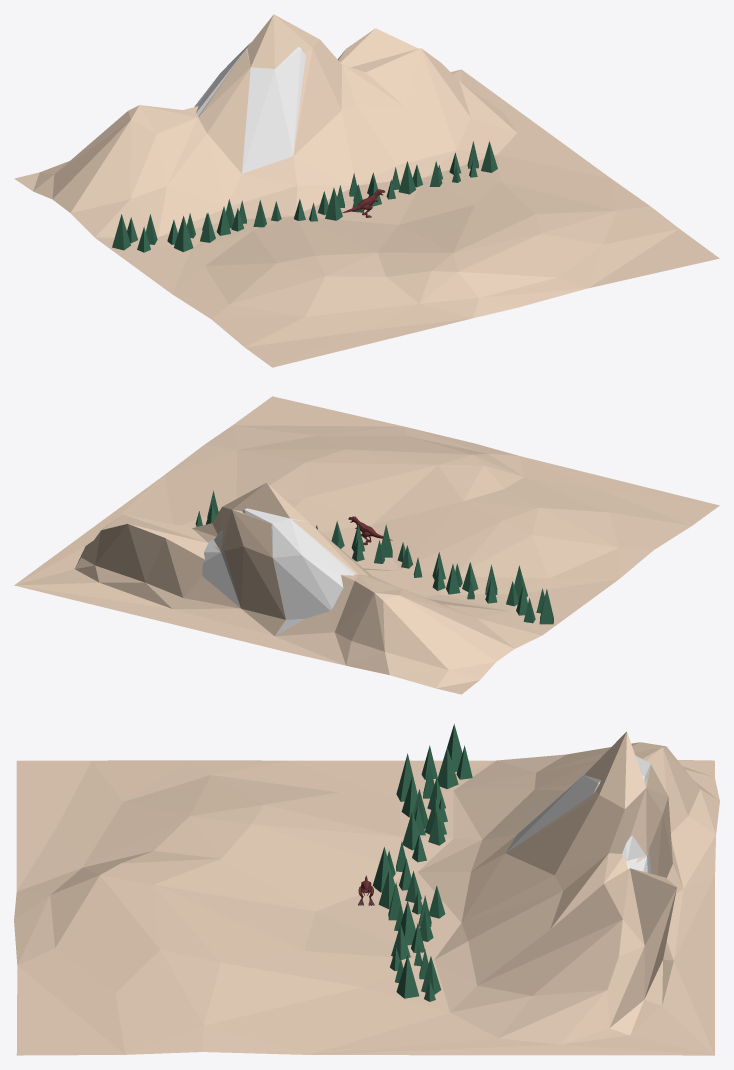
Rendered from dino-08.glb.
The picture shows the model from 3 angles, top to bottom: view 1: azimuth 30°, elevation 25°; view 2: azimuth 150°, elevation 25°; view 3: azimuth 270°, elevation 25°; orthographic projection. The views are drawn at different scales.
Parts seen in each view (by area): view 1: landscape, landscape.001; view 2: landscape, landscape.001; view 3: landscape, landscape.001, Cone.021.
Boxes of the visible parts, left/top/right/bottom form: landscape: left=14, top=14, right=719, bottom=367; landscape.001: left=194, top=42, right=305, bottom=173; landscape: left=14, top=396, right=719, bottom=694; landscape.001: left=178, top=508, right=404, bottom=679; landscape: left=14, top=731, right=719, bottom=1055; landscape.001: left=506, top=755, right=663, bottom=873; Cone.021: left=396, top=955, right=419, bottom=998.
Size of the model in its own units: 60 by 17.01 by 60.69.
